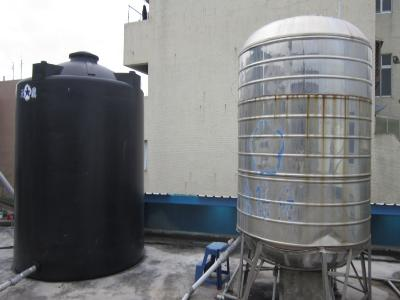water_tower: (236, 14, 376, 300), (11, 51, 148, 282)
